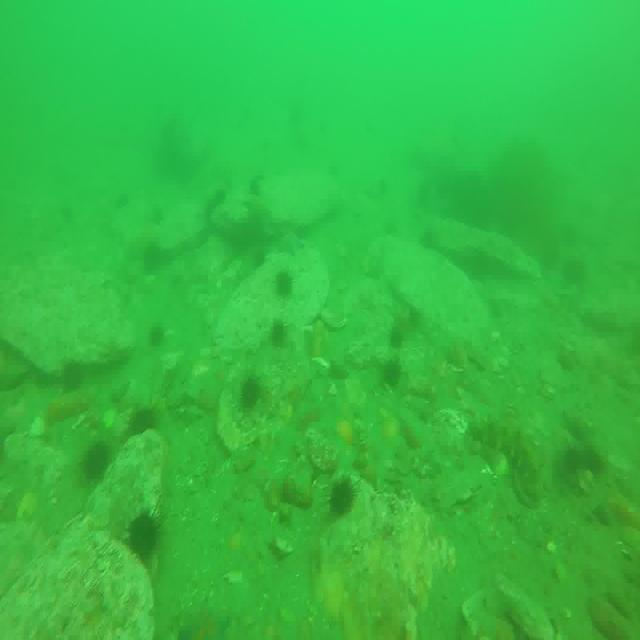echinus: (128, 512, 160, 562), (82, 442, 112, 480), (329, 479, 356, 517), (562, 439, 582, 486), (581, 443, 607, 479), (141, 239, 161, 280), (131, 408, 159, 437), (61, 364, 83, 396), (243, 376, 260, 410), (250, 245, 270, 271), (269, 316, 284, 346), (278, 272, 294, 300), (382, 358, 398, 385), (392, 324, 406, 350), (151, 326, 167, 346)
holothurian: (470, 414, 546, 501)
